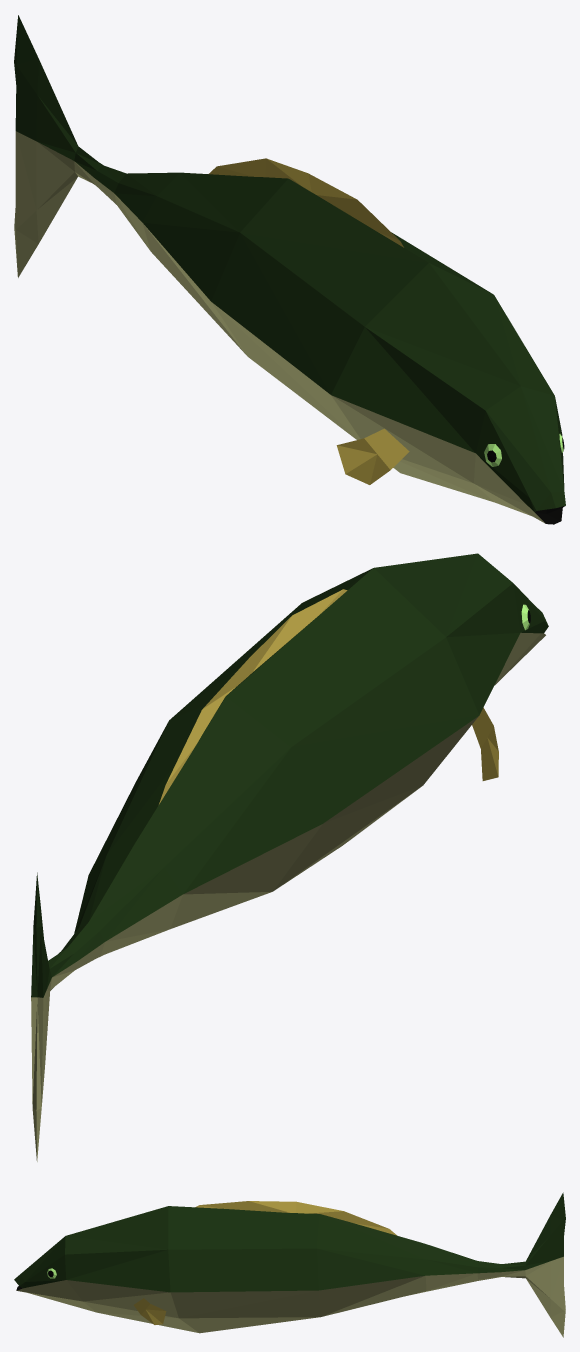
The model's file is Minnnow_ioexperment_000008.obj.
3 renders of one model, top to bottom at view 1: azimuth 30°, elevation 25°; view 2: azimuth 150°, elevation 25°; view 3: azimuth 270°, elevation 25°, orthographic. The views are drawn at different scales.
Bounding box in the file's own units: 0.6969 × 0.9146 × 3.02.
